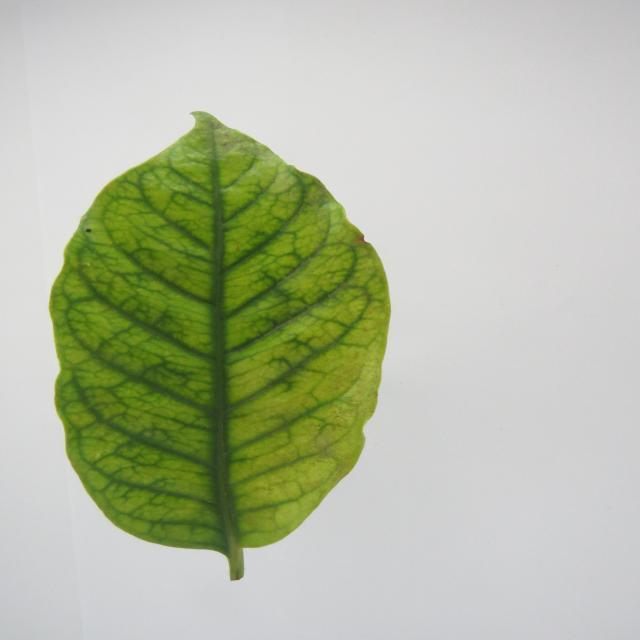DeficienciaNutricional-Magnesio: (50, 112, 390, 580)
